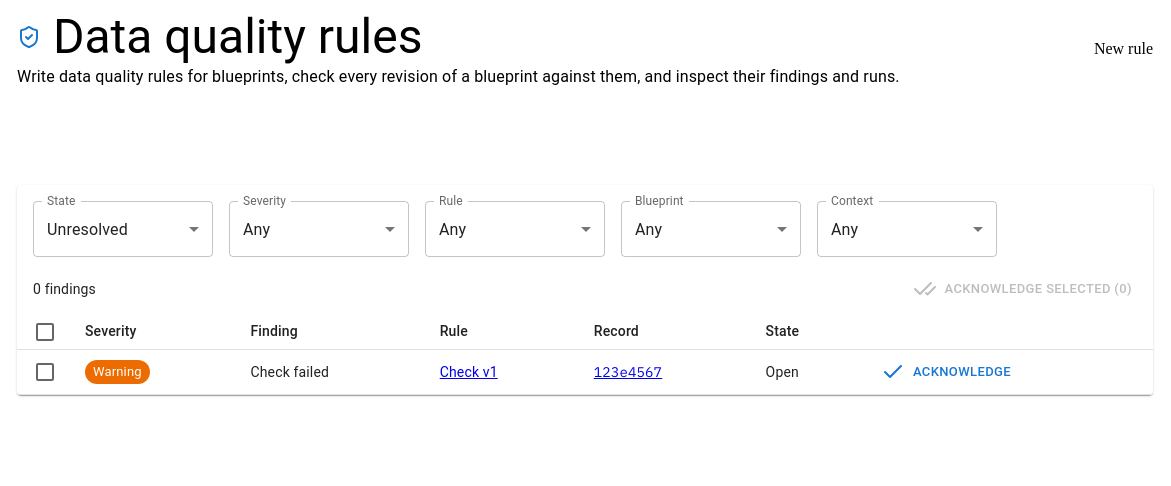
Test: RuleInspectionPage › shows why an acknowledgement was refused
Click the button "Acknowledge" at coordinates (947, 372), box [878,356,1016,388]
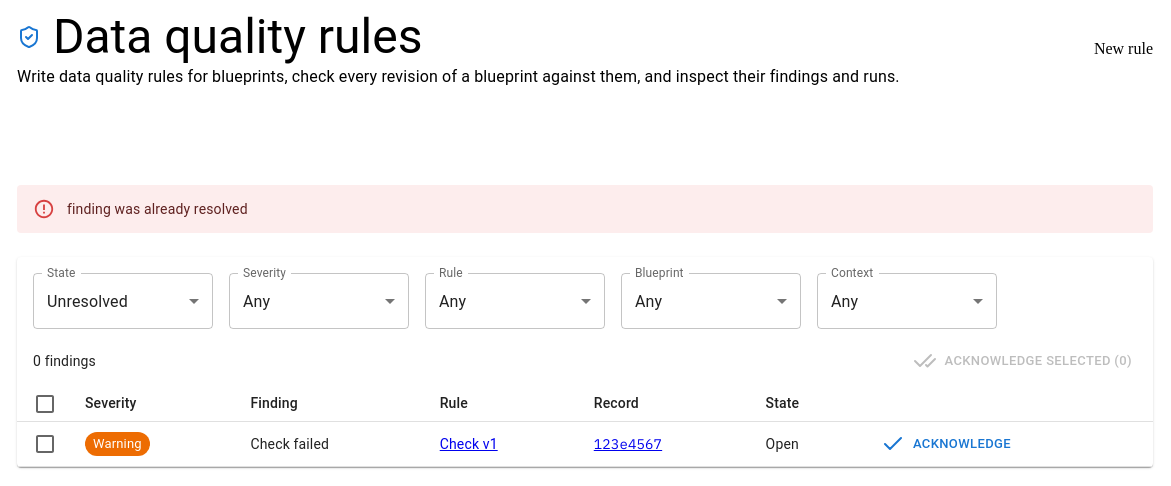
Result: the message "finding was already resolved" is shown at [17,185,1153,233]
